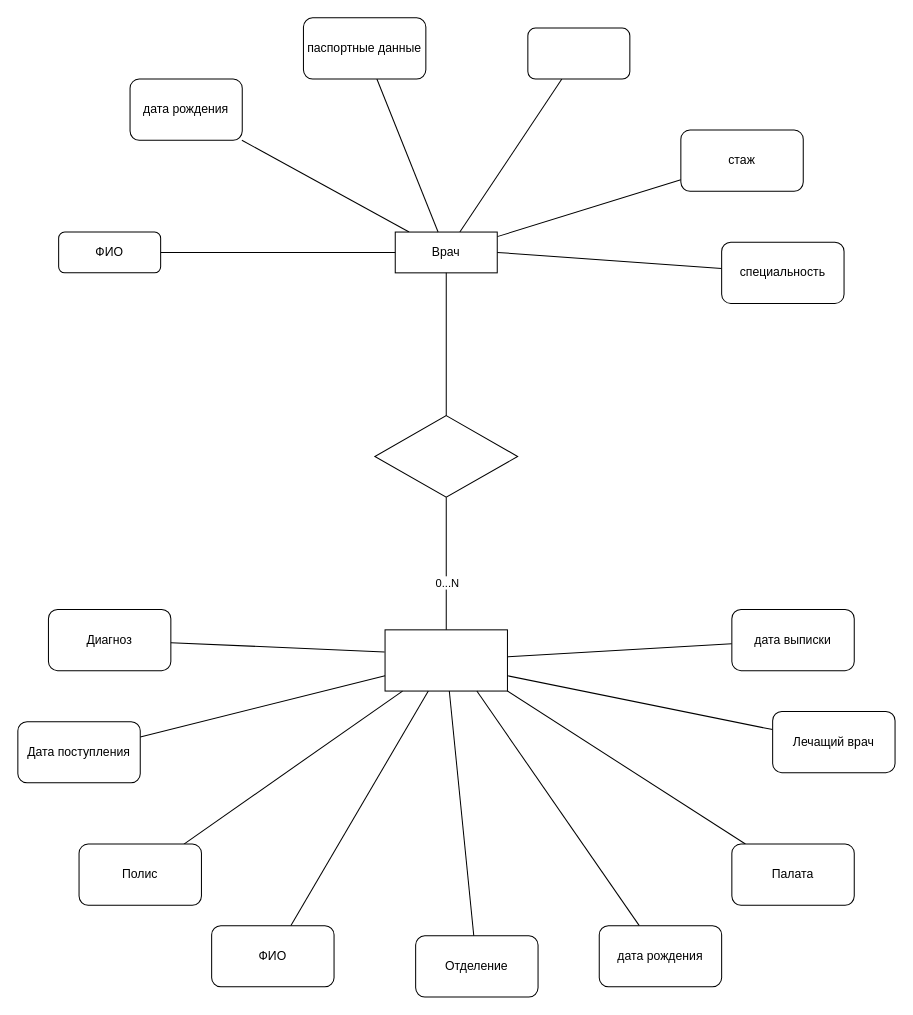
Some shapes in this 913 by 1015 pixel diagram are drawn without their labels. The shapes that lost their labels are listed below. From the top down, each one's centre as x and y in pixels, then its label:
At [578,53]: "Адрес".
At [446,456]: "Лечит".
At [445,660]: "пациент".
